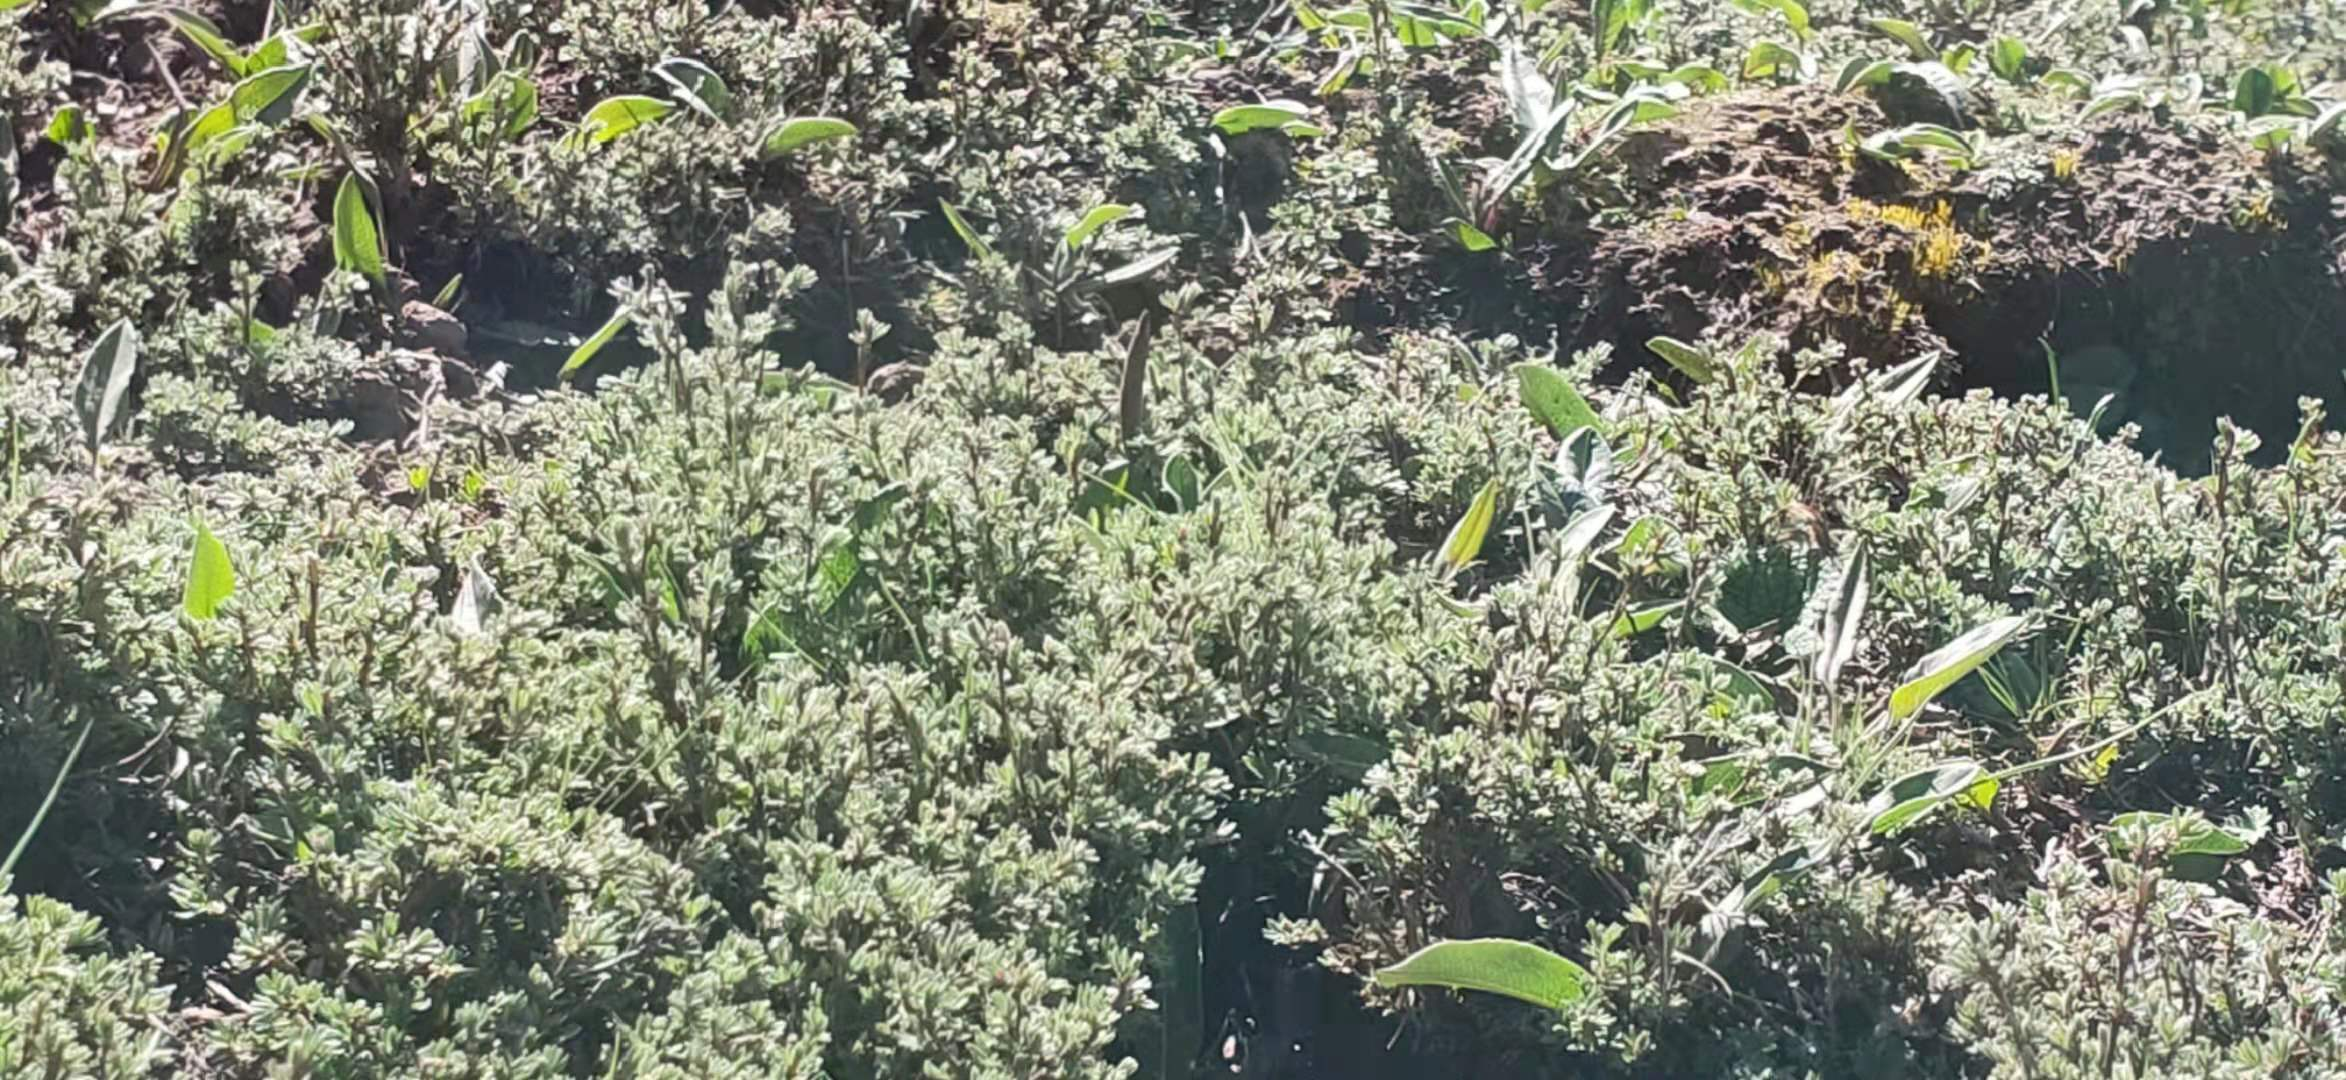cpf: (1113, 307, 1161, 446)
